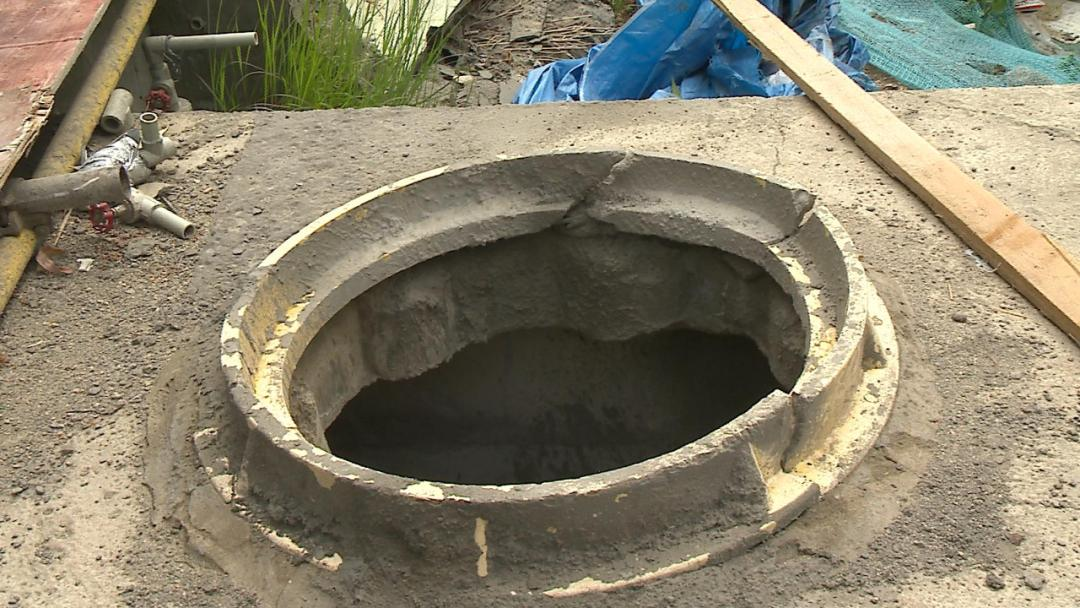wellcover: (240, 153, 895, 544)
